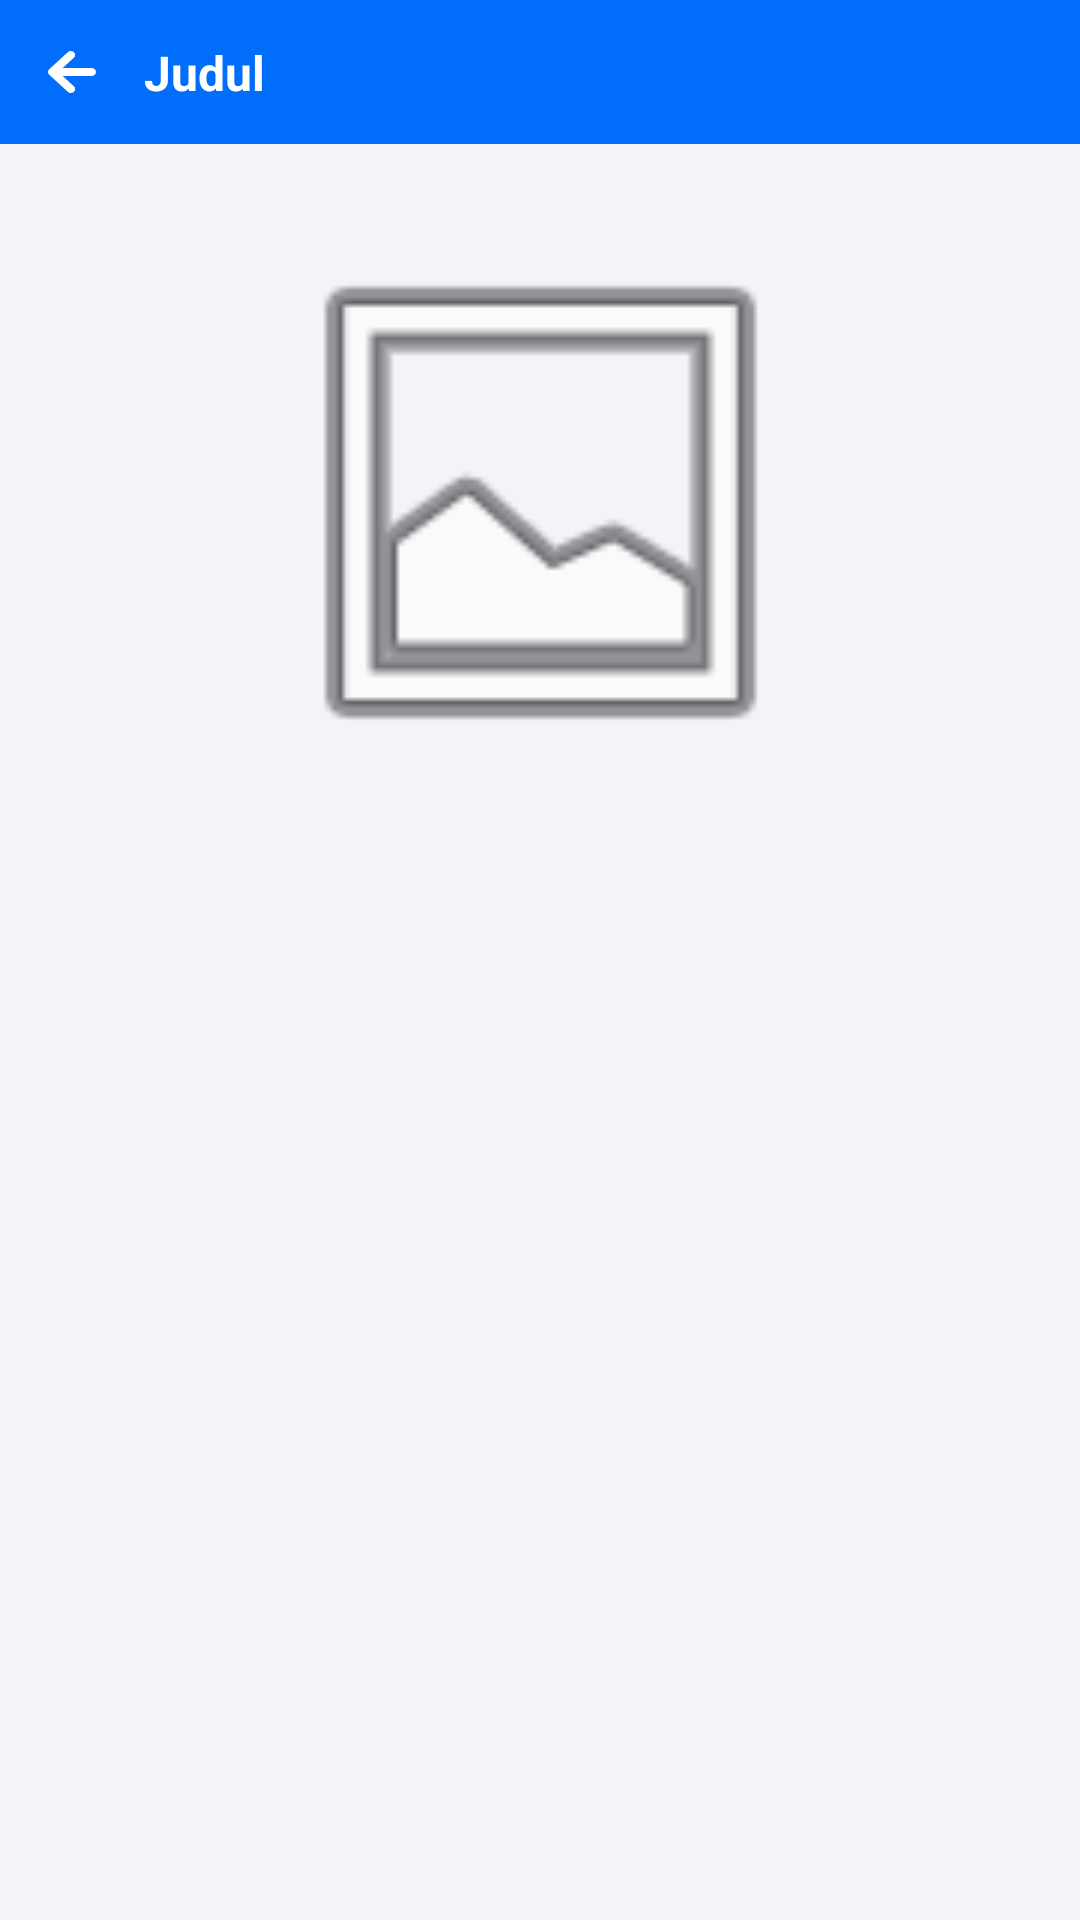

Where to tap for icons on this 1080 x 1920 app screen, as (x=x, y=y):
Kembali ke halaman sebelumnya: (x=72, y=72)
